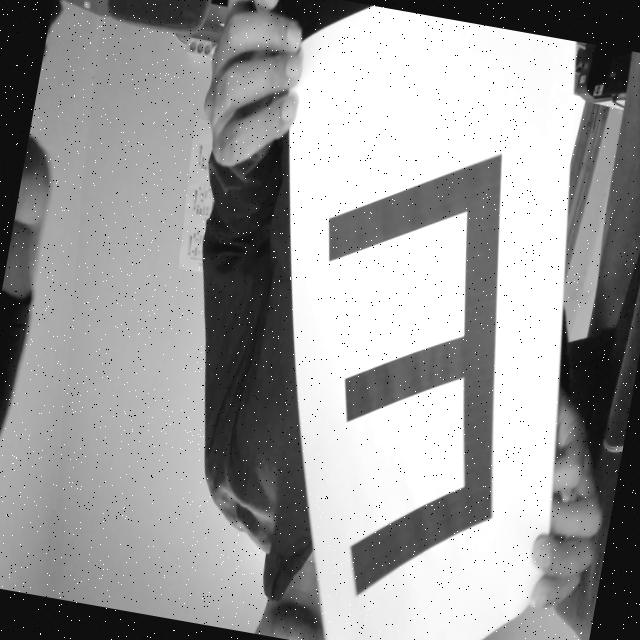e: (244, 85, 571, 639)
